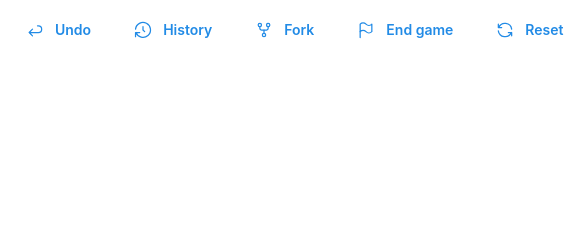
GameControls › state history menu › lists the snapshots in ascending step order with timestamps
This screenshot has width=581, height=245.
Click the button "History" at (176, 30), box [120,12,231,48]
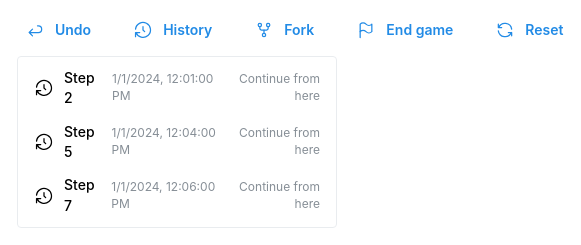
Expected: the text "Step 5" is shown, [64,122,100,162]
